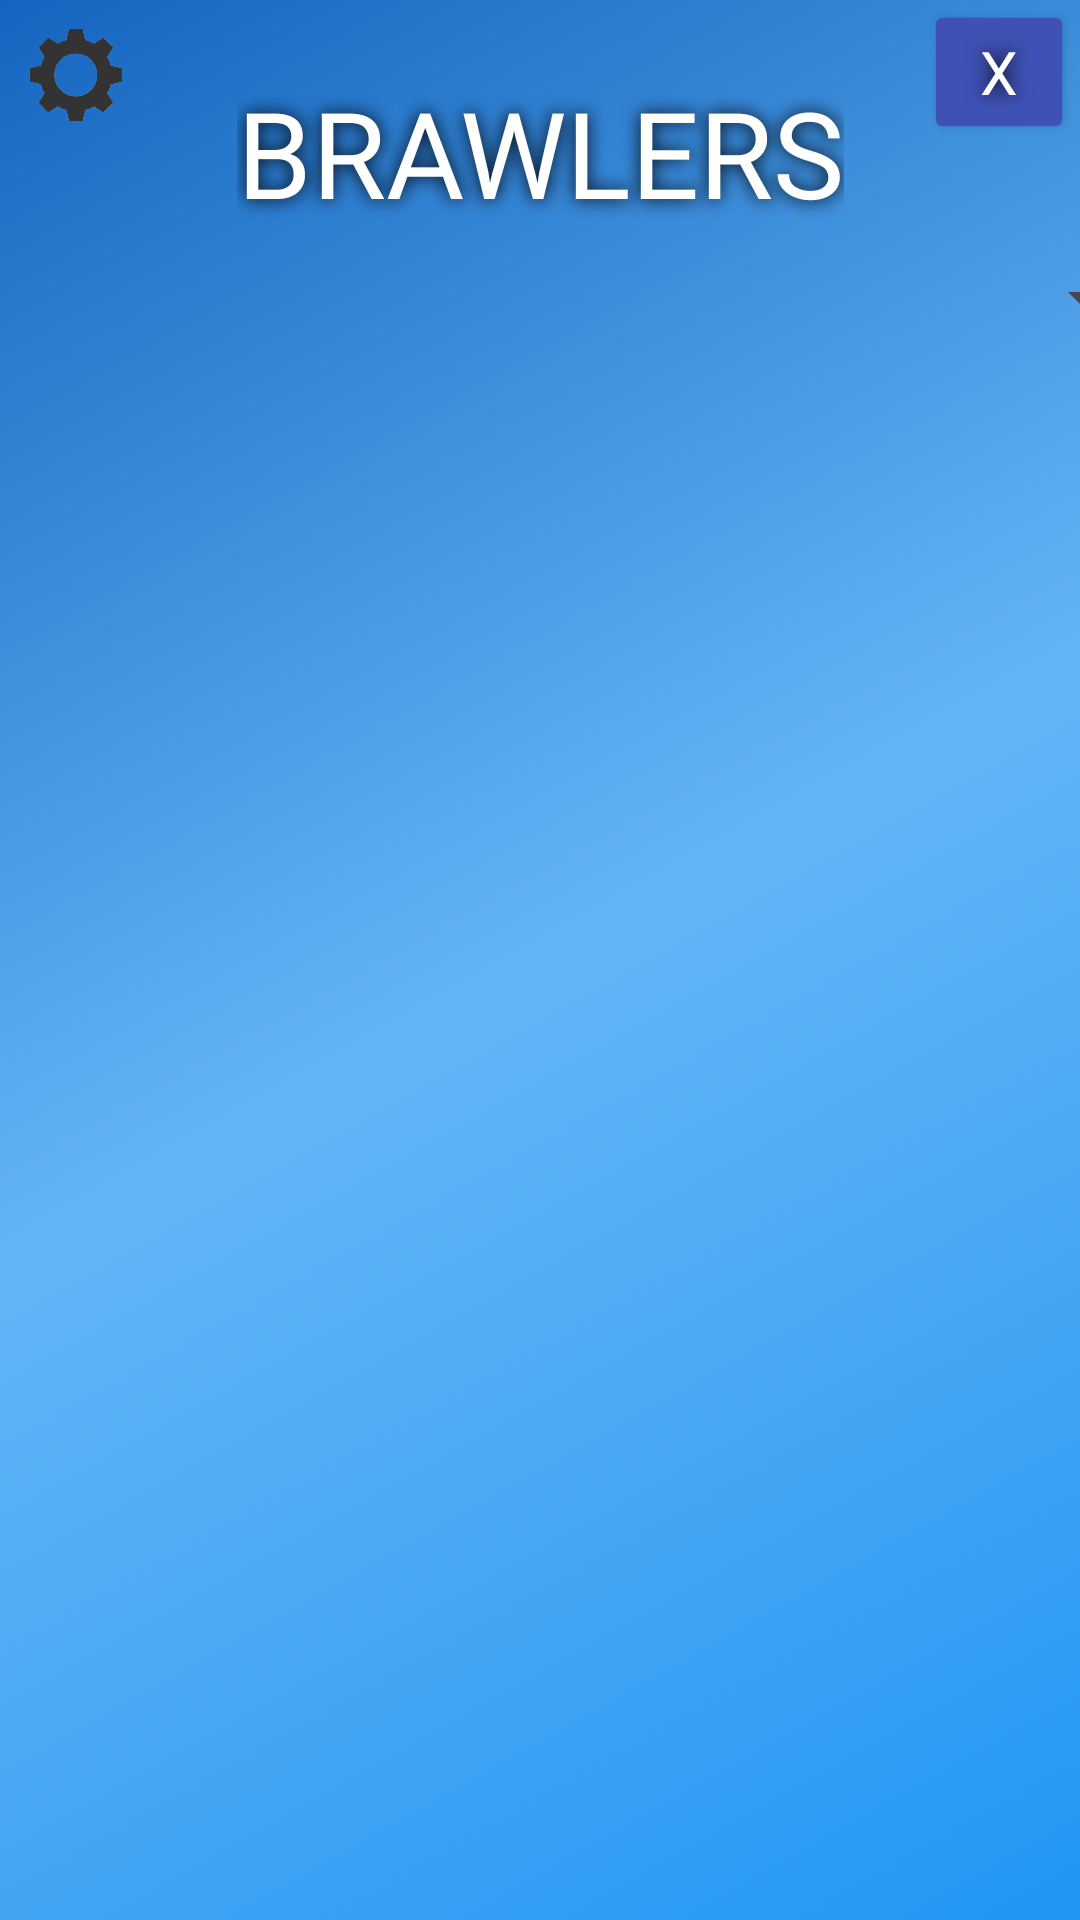

Named icons in this screenshot (1080 × 1920) and their centers, (x,y):
gear: (76,75)
